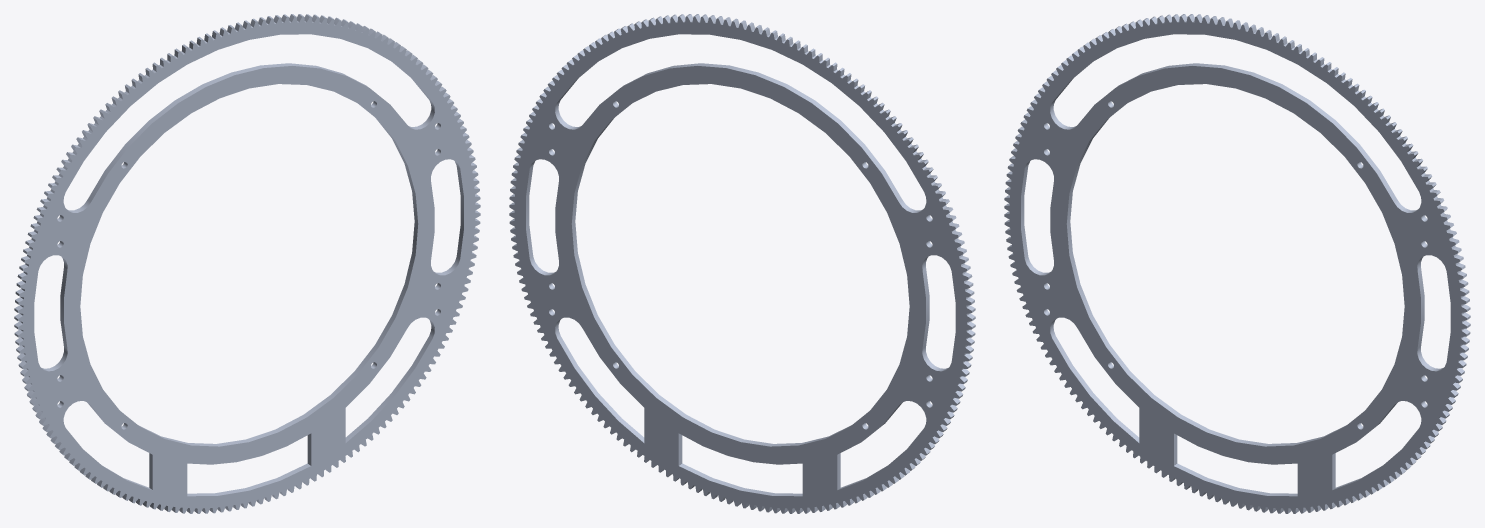
Rendered from 环齿板.fbx.
3 renders of one model, left to right at view 1: azimuth 30°, elevation 25°; view 2: azimuth 150°, elevation 25°; view 3: azimuth 330°, elevation 25°, orthographic.
Visible parts, largest first — view 1: 环齿板; view 2: 环齿板; view 3: 环齿板.
Part boxes in pixels (bbox=[...]): 环齿板: bbox=[14, 14, 480, 513]; 环齿板: bbox=[509, 14, 975, 513]; 环齿板: bbox=[1004, 14, 1470, 513].
Bounding box in the file's own units: 37.4 × 37.4 × 0.5.
